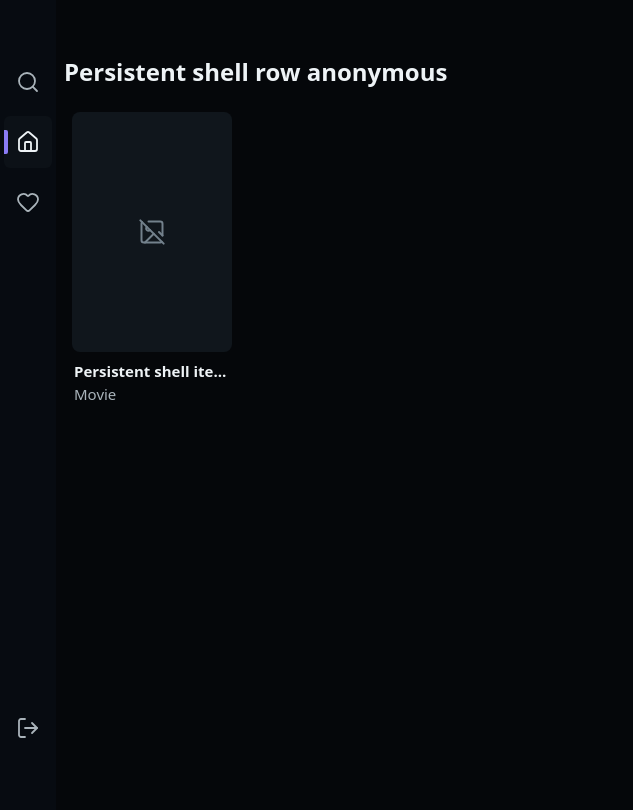
Test: App browse route integration › keeps one persistent BrowseShell Guide across browse route changes
Expected: the button with aria-label "Open Persistent shell item anonymous" is shown, [64,104,240,412]
Click the button named "Search" at (28, 82), box [4,56,52,108]
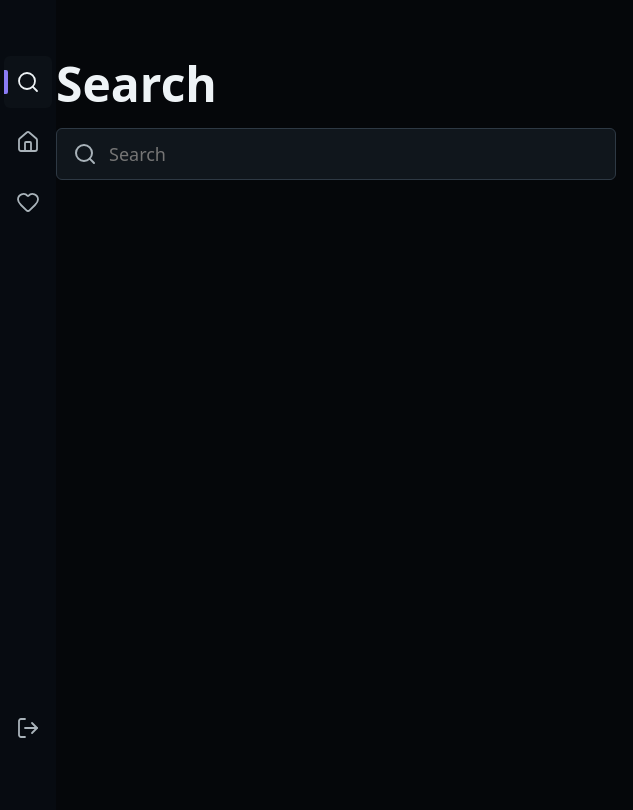
Expected: the number of navigation bars named "Guide" is 1, [0,0,56,809]
Now the heading "Search" is shown, box [56,51,217,116]
